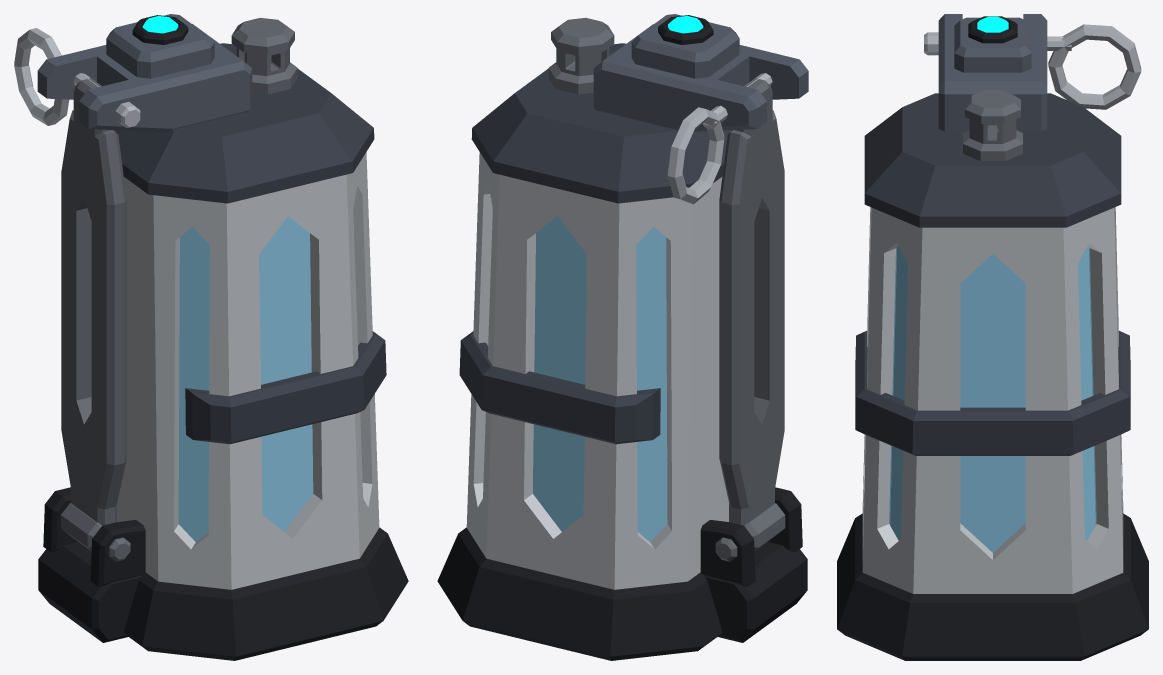
The model's file is Frost.fbx.
The picture shows the model from 3 angles, left to right: view 1: azimuth 30°, elevation 25°; view 2: azimuth 150°, elevation 25°; view 3: azimuth 270°, elevation 25°; orthographic projection. The views are drawn at different scales.
Visible parts, largest first — view 1: Body, Foot, Latch, Core, Lid, FuseHead, Band, Valve, Pin, FuseBezel; view 2: Body, Foot, Latch, Core, Lid, FuseHead, Band, Valve, Pin, FuseBezel; view 3: Body, Lid, Foot, Core, Band, FuseHead, Pin, Valve, FuseBezel.
Part boxes in pixels (<box>): Body: <box>117,152,379,589</box>; Foot: <box>38,487,408,660</box>; Latch: <box>61,78,126,550</box>; Core: <box>178,216,313,541</box>; Lid: <box>114,43,374,203</box>; FuseHead: <box>37,14,252,132</box>; Band: <box>185,331,386,444</box>; Valve: <box>231,17,297,94</box>; Pin: <box>14,28,140,127</box>; FuseBezel: <box>132,15,188,44</box>; Body: <box>466,152,728,589</box>; Foot: <box>437,487,807,660</box>; Latch: <box>719,78,785,550</box>; Core: <box>533,216,667,541</box>; Lid: <box>471,43,731,203</box>; FuseHead: <box>593,14,808,131</box>; Band: <box>459,331,660,444</box>; Valve: <box>548,17,614,94</box>; Pin: <box>667,73,772,204</box>; FuseBezel: <box>658,15,713,44</box>; Body: <box>862,207,1123,593</box>; Lid: <box>864,93,1121,227</box>; Foot: <box>837,513,1148,660</box>; Core: <box>889,246,1096,552</box>; Band: <box>855,330,1130,455</box>; FuseHead: <box>938,14,1047,131</box>; Pin: <box>924,24,1141,109</box>; Valve: <box>963,90,1022,160</box>; FuseBezel: <box>968,16,1017,43</box>.
Size of the model in its own units: 0.3228 by 0.6024 by 0.3096.
